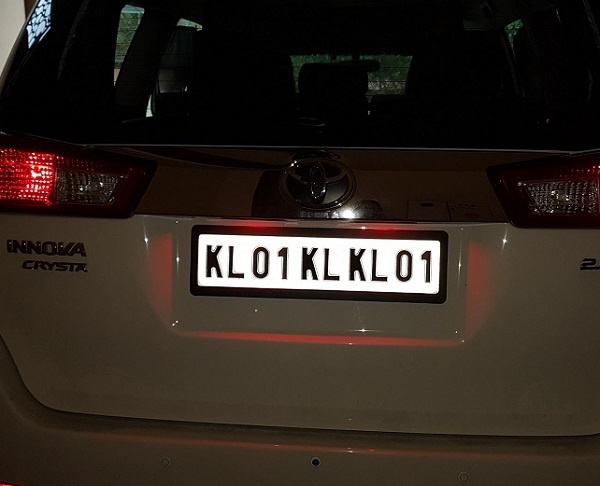number_plate: (196, 227, 442, 293)
